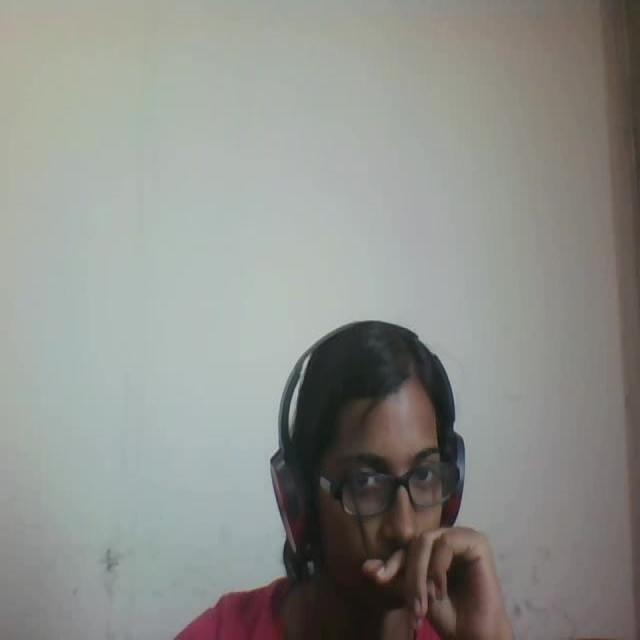Bored: (255, 316, 499, 640)
